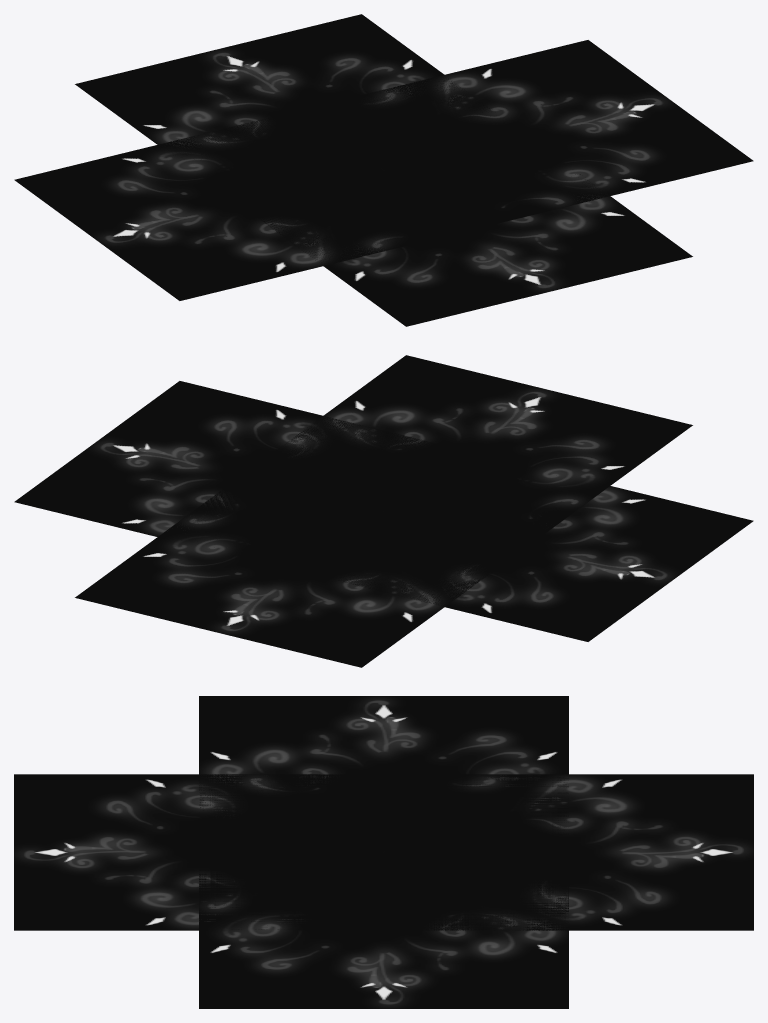
Rendered from FxPlane_Flow_2_3.fbx.
3 views of the same model, one above another, from view 1: azimuth 30°, elevation 25°; view 2: azimuth 150°, elevation 25°; view 3: azimuth 270°, elevation 25° (orthographic). The views are drawn at different scales.
Visible parts, largest first — view 1: FxPlane_Flow_2_3; view 2: FxPlane_Flow_2_3; view 3: FxPlane_Flow_2_3.
Part boxes in pixels (x1,y1,x2,y2): FxPlane_Flow_2_3: [14, 14, 753, 326]; FxPlane_Flow_2_3: [14, 355, 753, 667]; FxPlane_Flow_2_3: [14, 696, 753, 1008].
Size of the model in its own units: 512 by 3.14e-14 by 512.
1 material, 1 textured.
